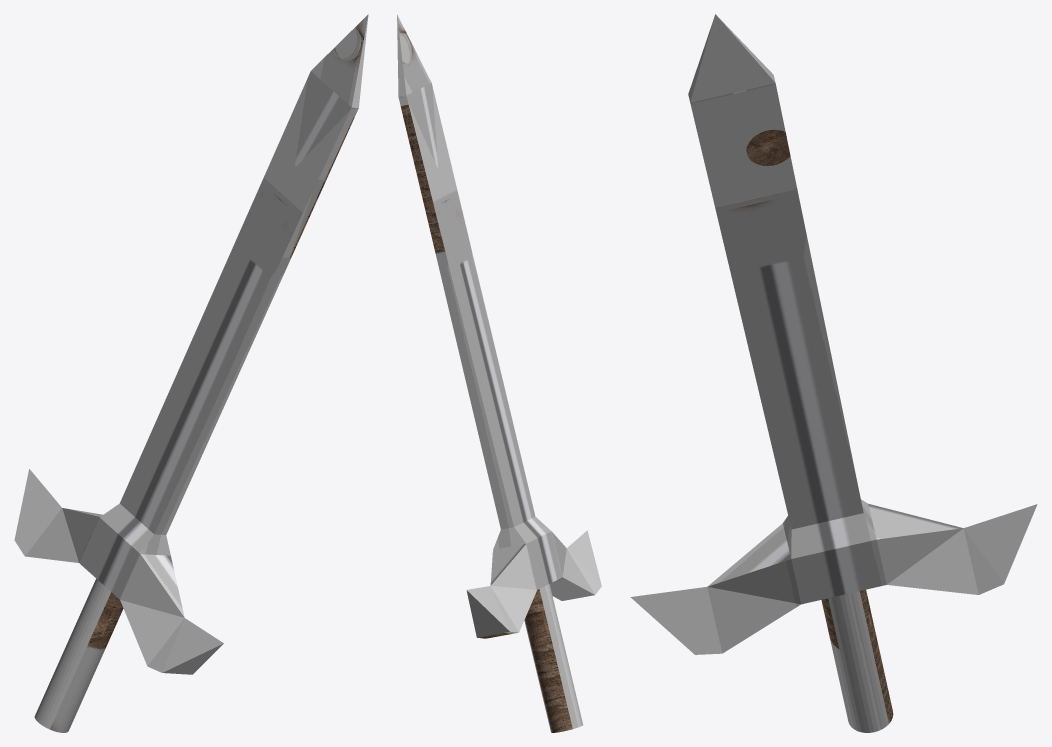
Rendered from Protagonista16.obj.
3 views of the same model, side by side, from view 1: azimuth 30°, elevation 25°; view 2: azimuth 150°, elevation 25°; view 3: azimuth 270°, elevation 25° (orthographic). The views are drawn at different scales.
Visible parts, largest first — view 1: Cube; view 2: Cube; view 3: Cube.
Part boxes in pixels (x1,y1,x2,y2): Cube: [14, 14, 368, 732]; Cube: [397, 14, 601, 732]; Cube: [630, 14, 1037, 732].
Size of the model in its own units: 0.6545 by 1.63 by 0.6971.
Materials: 1 (1 with a texture image).
